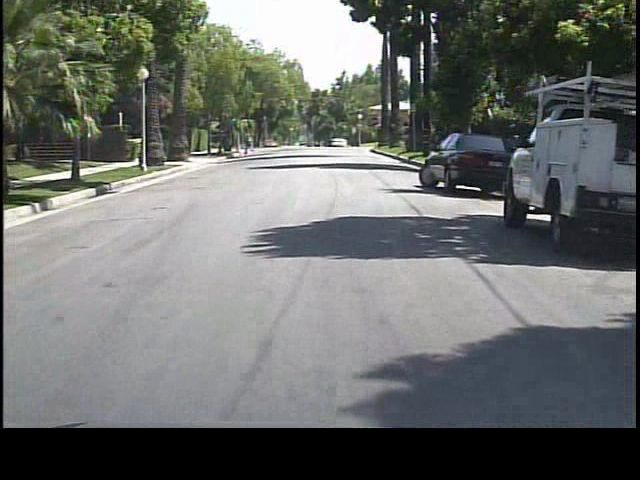person: (243, 129, 257, 158)
